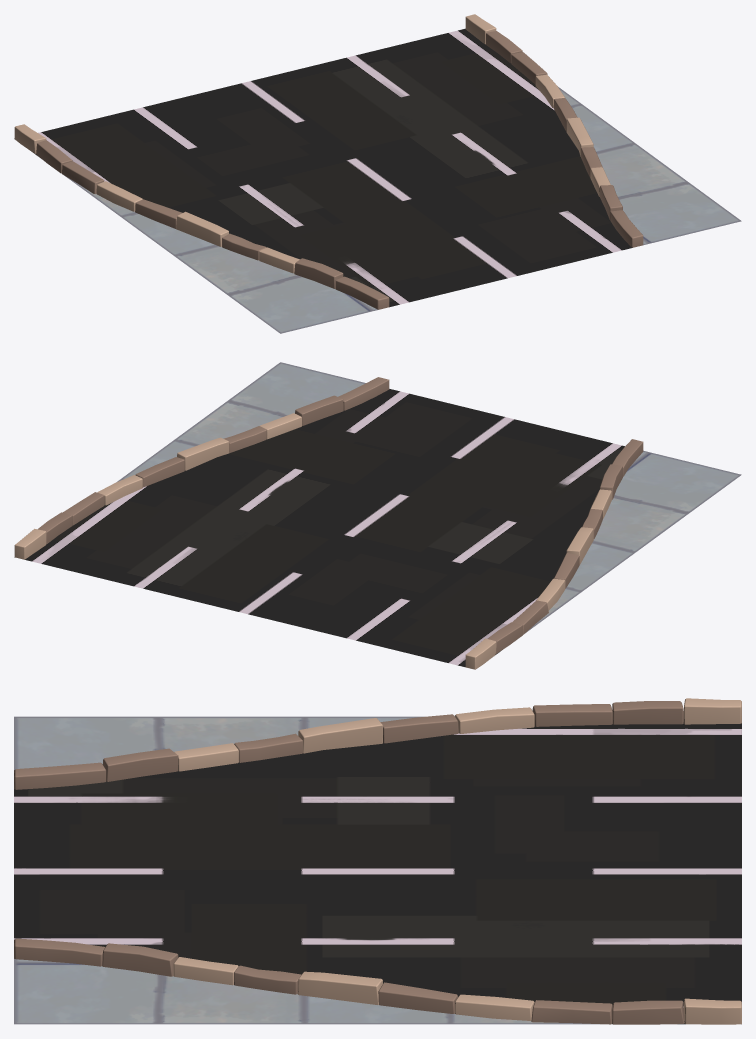
Rendered from CityRoad_4LineExtension.fbx.
3 renders of one model, top to bottom at view 1: azimuth 30°, elevation 25°; view 2: azimuth 150°, elevation 25°; view 3: azimuth 270°, elevation 25°, orthographic. The views are drawn at different scales.
Parts seen in each view (by area): view 1: CityRoad_4LineExtension_mesh; view 2: CityRoad_4LineExtension_mesh; view 3: CityRoad_4LineExtension_mesh.
Boxes of the visible parts, left/top/right/bottom form: CityRoad_4LineExtension_mesh: left=14, top=14, right=741, bottom=333; CityRoad_4LineExtension_mesh: left=14, top=362, right=741, bottom=669; CityRoad_4LineExtension_mesh: left=14, top=698, right=741, bottom=1024.
Bounding box in the file's own units: 1003 × 28.9 × 1000.
